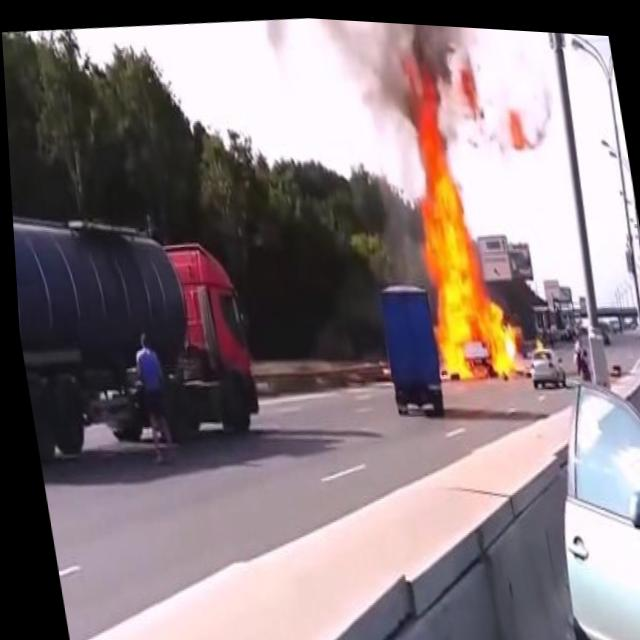fire: (386, 40, 523, 385)
